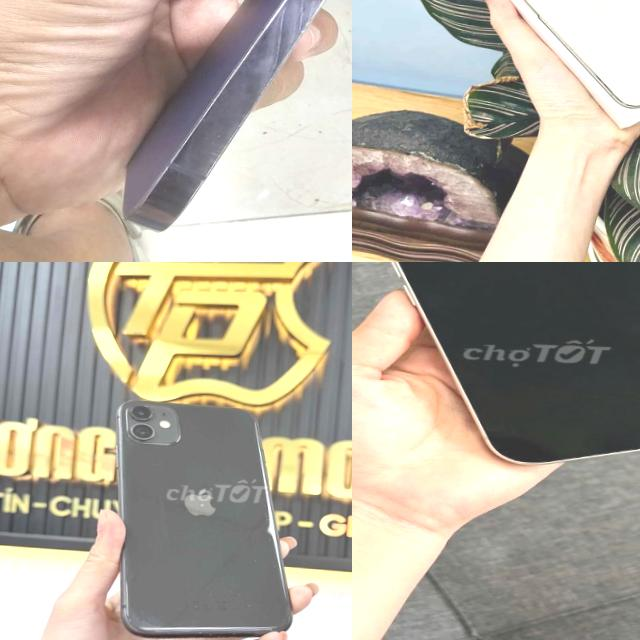gen_11: (103, 395, 302, 640)
gen_14: (114, 0, 352, 244), (472, 0, 640, 113)
gen_17: (352, 262, 640, 471)
